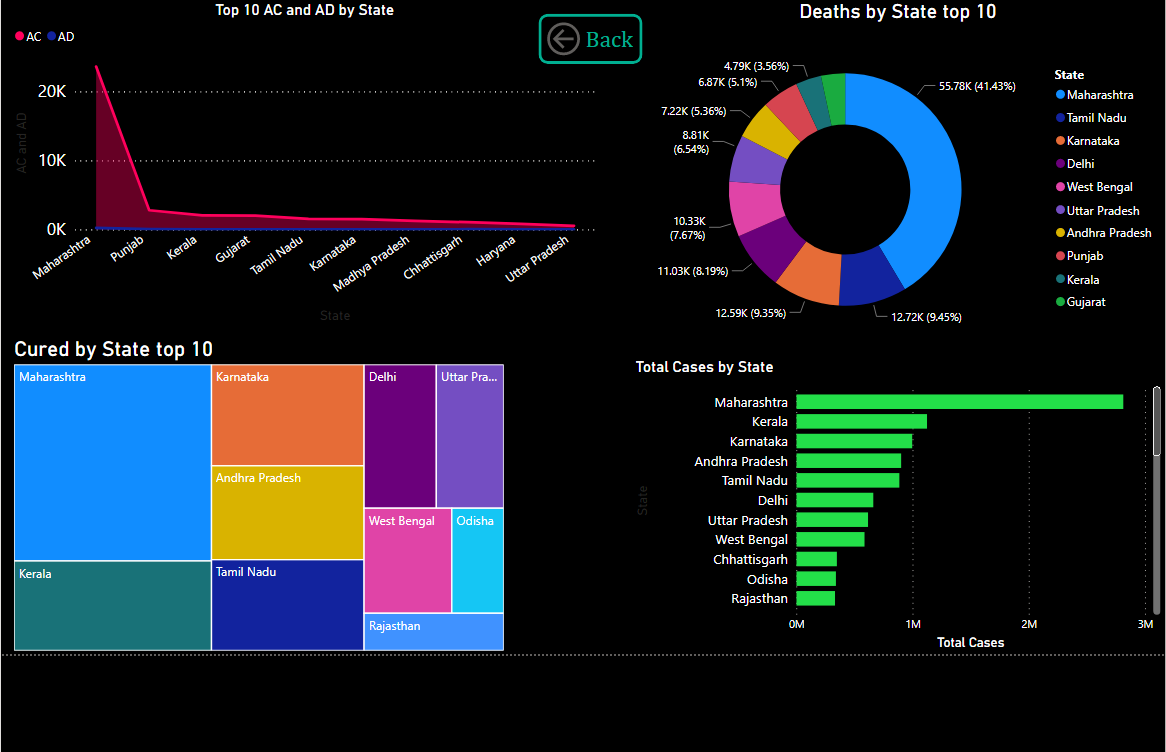

The page's visual inventory and layout, read from the dashboard file:
{"tool":"powerbi","page":{"name":"Page 2","canvas":[1280,720],"ordinal":1},"visuals":[{"type":"areaChart","title":"Top 10 AC and AD by State","fields":{"Category":["Table 1 (3).State"],"Y":["Sum(Table 1 (3).AC)","Sum(Table 1 (3).AD)"]},"box":[9.6,0,648.9,360.2],"z":0},{"type":"donutChart","title":"Deaths by State top 10","fields":{"Y":["Sum(Table 1 (3).Deaths)"],"Category":["Table 1 (3).State"]},"box":[692.9,0,587.1,393.2],"z":1},{"type":"actionButton","box":[591.2,15.1,114.1,55],"z":2},{"type":"treemap","title":"Cured by State top 10","fields":{"Group":["Table 1 (3).State"],"Values":["Sum(Table 1 (3).Cured)"]},"box":[9.6,369.8,548.6,350.6],"z":3},{"type":"clusteredBarChart","fields":{"Category":["Table 1 (3).State"],"Y":["Sum(Table 1 (3).Total Cases)"]},"box":[693,393,587,327],"z":4}]}

Visuals, with their boxes on the page's 1280x720 design canvas (x1, y1, x2, y2). These are canvas units, not pixel positions in the 1166x752 screenshot, which may show the page scaled, cropped or inside an application window:
"Top 10 AC and AD by State" areaChart: crop(10, 0, 658, 360)
"Deaths by State top 10" donutChart: crop(693, 0, 1280, 393)
actionButton: crop(591, 15, 705, 70)
"Cured by State top 10" treemap: crop(10, 370, 558, 720)
clusteredBarChart - Table 1 (3).State x Sum(Table 1 (3).Total Cases): crop(693, 393, 1280, 720)
